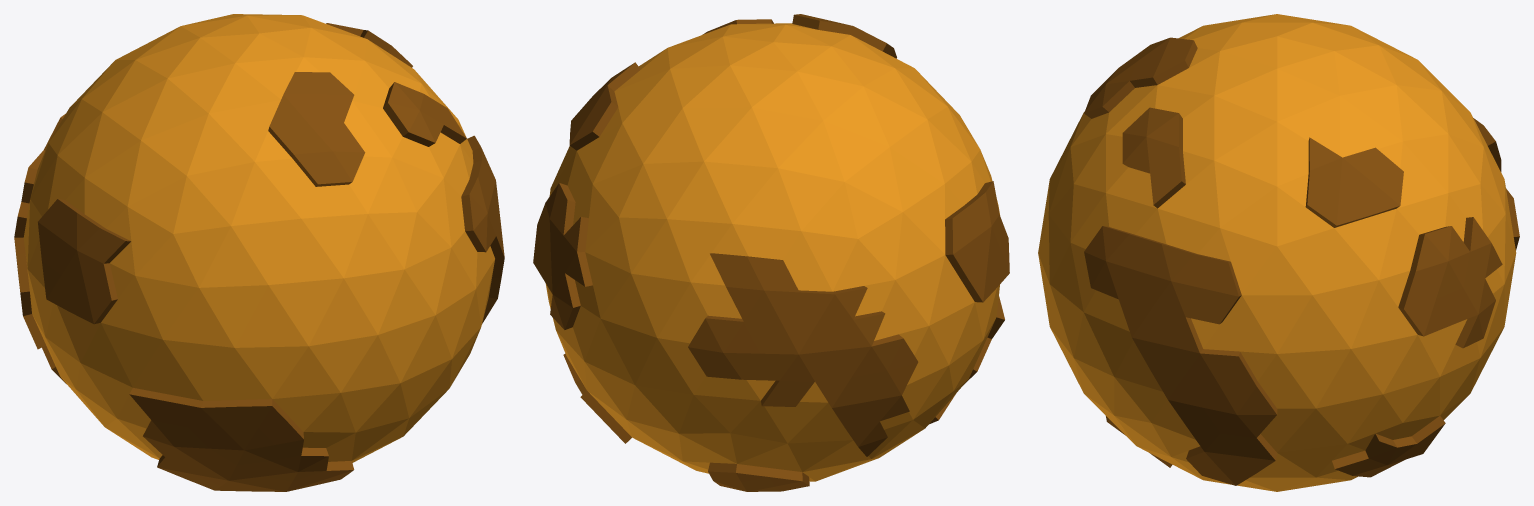
File: Planet05.glb
The picture shows the model from 3 angles, left to right: view 1: azimuth 30°, elevation 25°; view 2: azimuth 150°, elevation 25°; view 3: azimuth 270°, elevation 25°; orthographic projection. The views are drawn at different scales.
Visible parts, largest first — view 1: Planet05; view 2: Planet05; view 3: Planet05.
Boxes of the visible parts, bbox=[...] form: Planet05: bbox=[14, 14, 504, 491]; Planet05: bbox=[533, 14, 1009, 491]; Planet05: bbox=[1038, 14, 1519, 491].
Bounding box in the file's own units: 1.02 × 0.9939 × 1.
